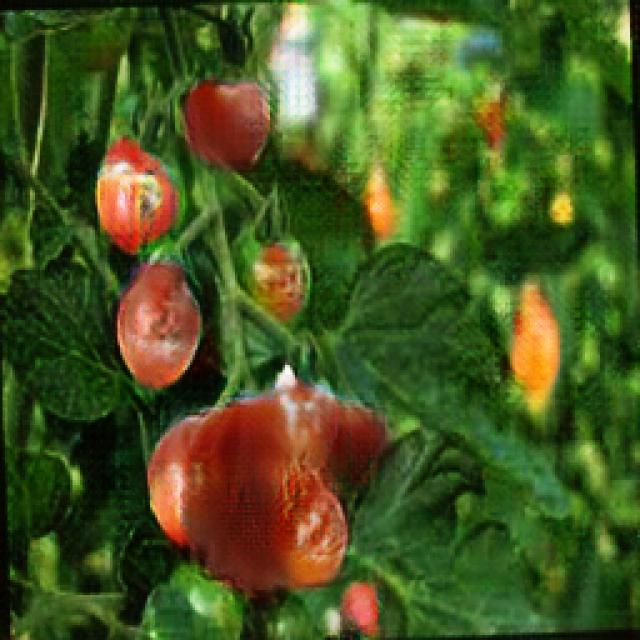overripe tomato: (113, 261, 199, 390), (94, 137, 179, 247)
